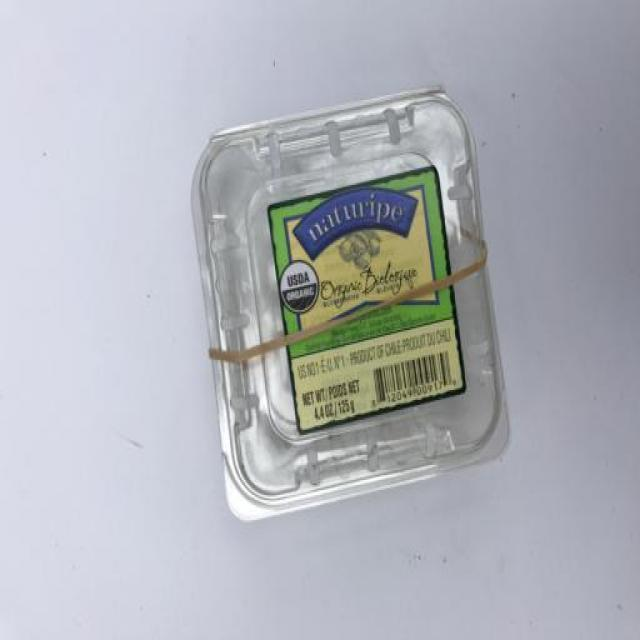Plastic: (193, 88, 510, 522)
